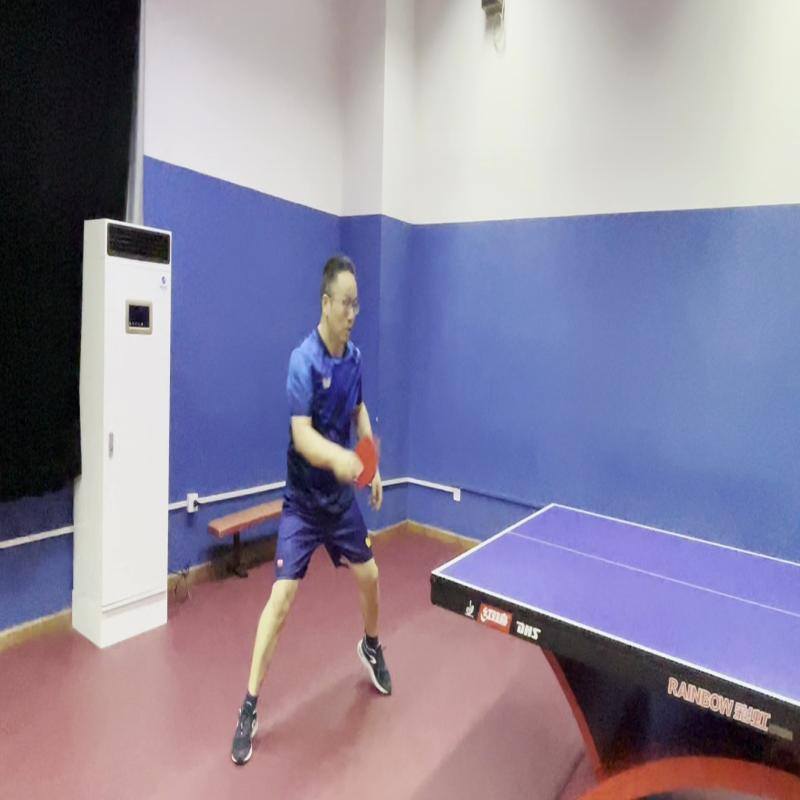bats: (345, 428, 384, 497)
